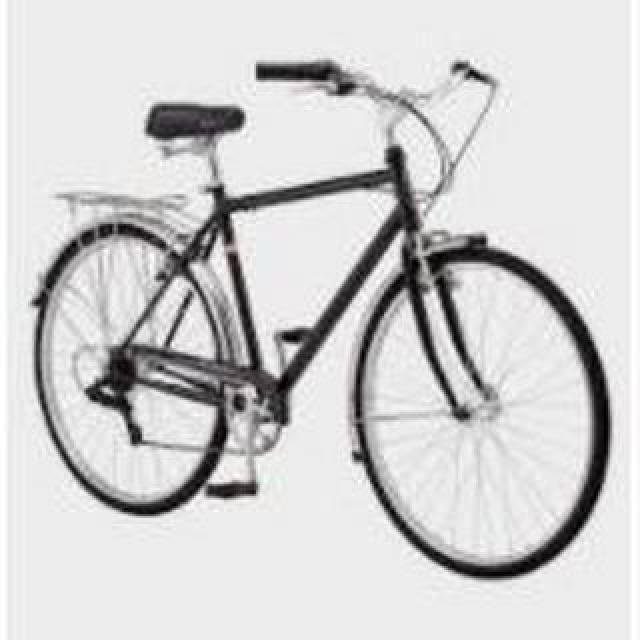Person: (32, 50, 616, 580)
